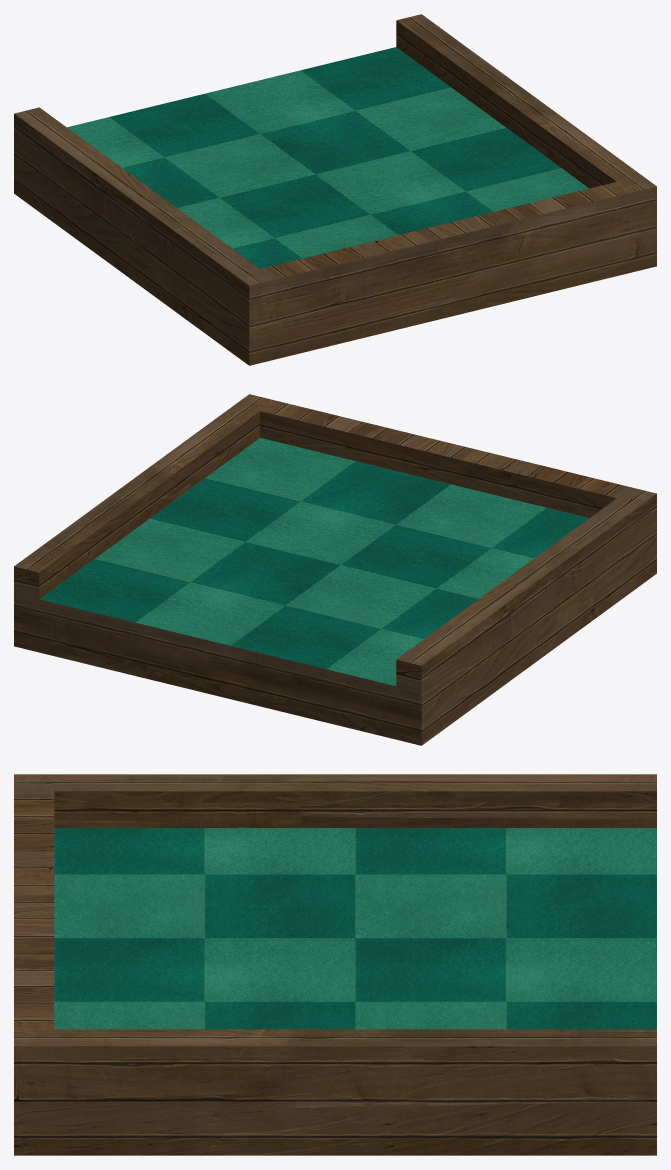
The model's file is Start1.gltf.
3 views of the same model, one above another, from view 1: azimuth 30°, elevation 25°; view 2: azimuth 150°, elevation 25°; view 3: azimuth 270°, elevation 25° (orthographic). The views are drawn at different scales.
Parts seen in each view (by area): view 1: Start1_glb; view 2: Start1_glb; view 3: Start1_glb.
Boxes of the visible parts, bbox=[...] form: Start1_glb: bbox=[14, 14, 656, 365]; Start1_glb: bbox=[14, 394, 656, 745]; Start1_glb: bbox=[14, 774, 656, 1155].
Size of what is drawn, in the model's own units: 4 by 0.75 by 4.
Materials: 2 (2 with a texture image).
